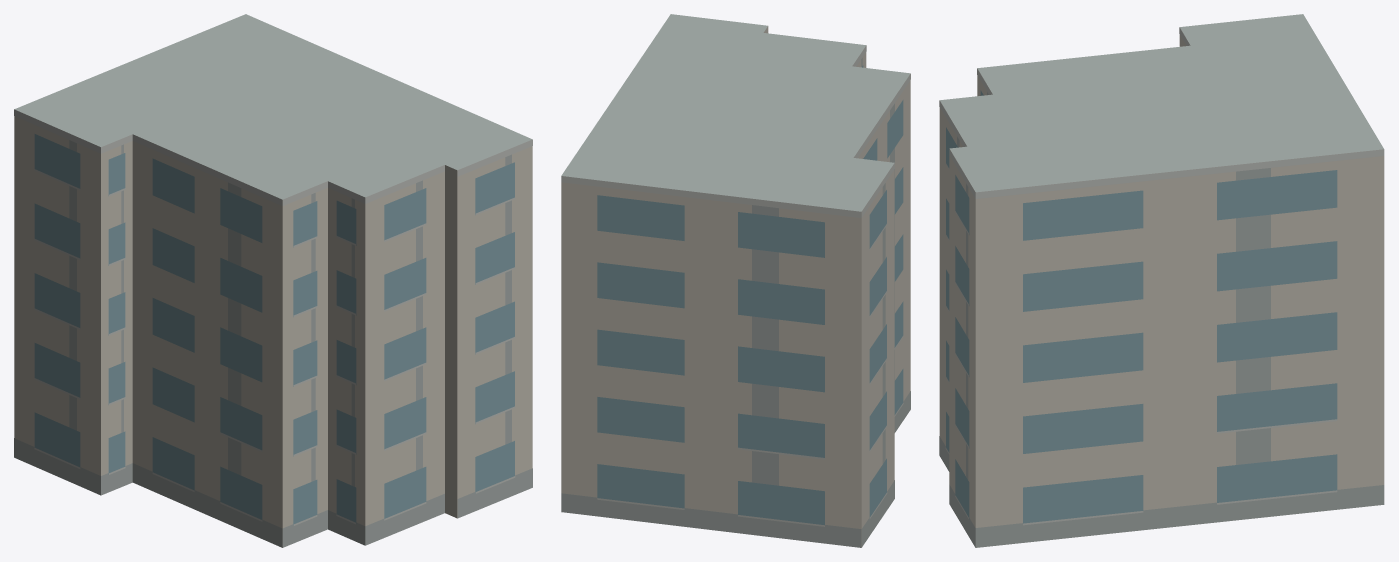
Rendered from survey-upis-33044877.glb.
The picture shows the model from 3 angles, left to right: view 1: azimuth 30°, elevation 25°; view 2: azimuth 150°, elevation 25°; view 3: azimuth 270°, elevation 25°; orthographic projection. The views are drawn at different scales.
Parts seen in each view (by area): view 1: survey-upis-33044877.tmp; view 2: survey-upis-33044877.tmp; view 3: survey-upis-33044877.tmp.
Boxes of the visible parts, <box> form: survey-upis-33044877.tmp: <box>14,14,532,547</box>; survey-upis-33044877.tmp: <box>561,14,910,547</box>; survey-upis-33044877.tmp: <box>939,14,1384,547</box>.
Size of the model in its own units: 14 by 13 by 14.75.
